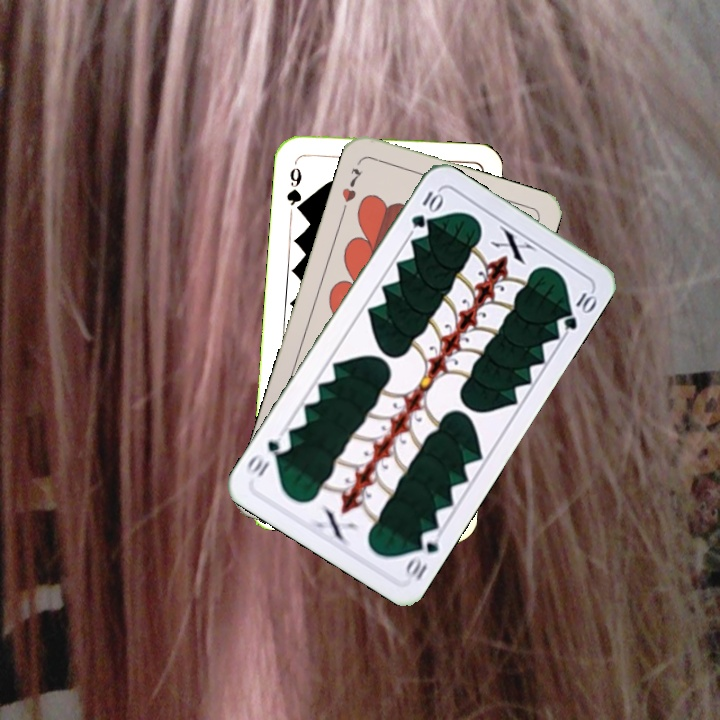G10: (401, 525, 444, 584), (407, 187, 445, 231)
G9: (282, 163, 305, 215)
H7: (337, 164, 365, 216)
